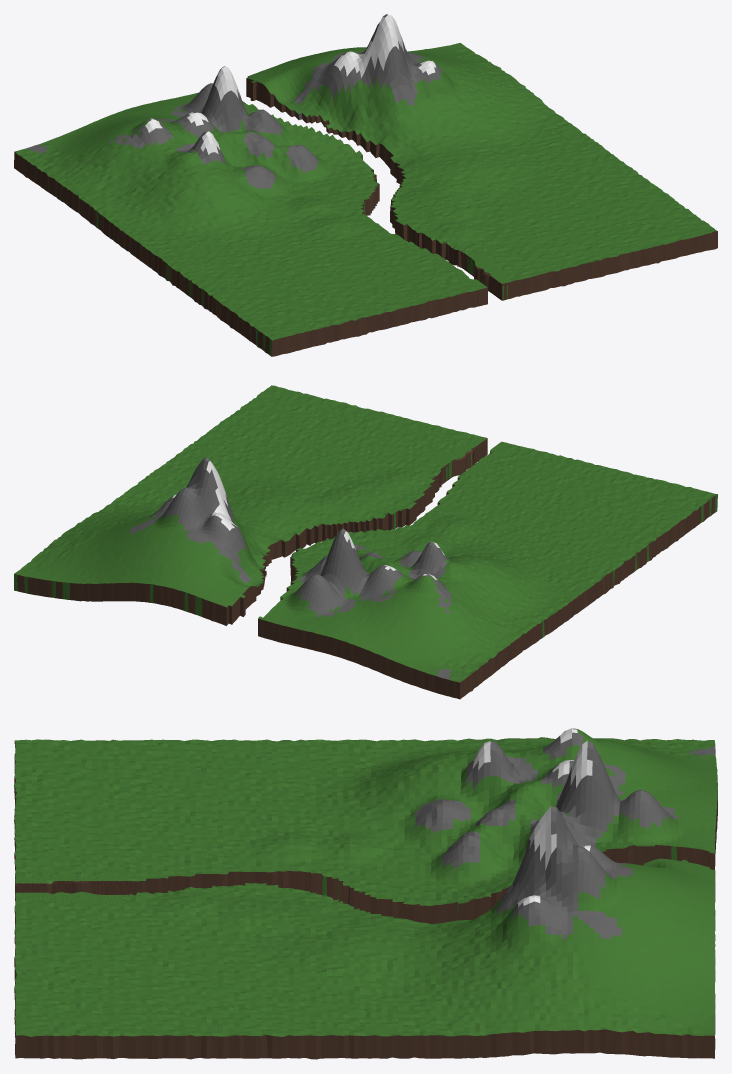
Rendered from Environment.fbx.
The picture shows the model from 3 angles, top to bottom: view 1: azimuth 30°, elevation 25°; view 2: azimuth 150°, elevation 25°; view 3: azimuth 270°, elevation 25°; orthographic projection. The views are drawn at different scales.
Parts seen in each view (by area): view 1: Plane.003; view 2: Plane.003; view 3: Plane.003.
Part boxes in pixels (x1,y1,x2,y2): Plane.003: [14, 14, 717, 356]; Plane.003: [14, 385, 717, 699]; Plane.003: [14, 728, 717, 1059].
Size of the model in its own units: 66206 by 17269 by 66397.
